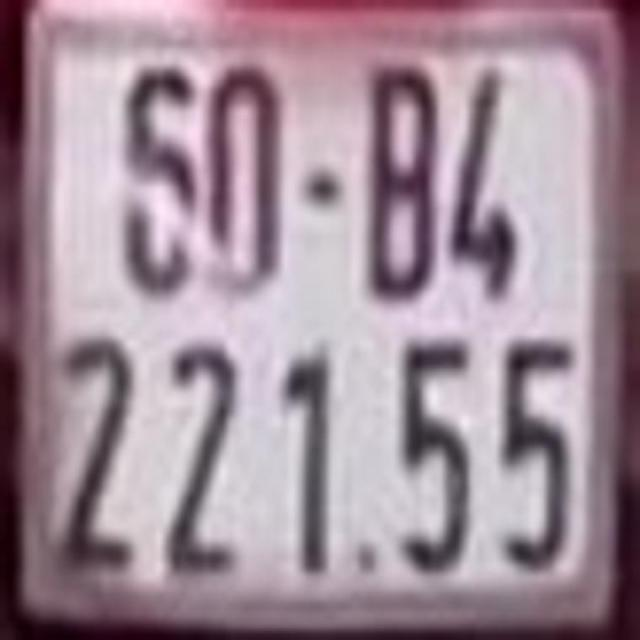0: (205, 67, 282, 290)
1: (278, 344, 332, 574)
2: (165, 344, 236, 573), (65, 335, 130, 571)
4: (453, 64, 520, 303)
5: (402, 332, 473, 572), (501, 337, 568, 568)
6: (126, 64, 190, 287)
B: (369, 62, 439, 300)
